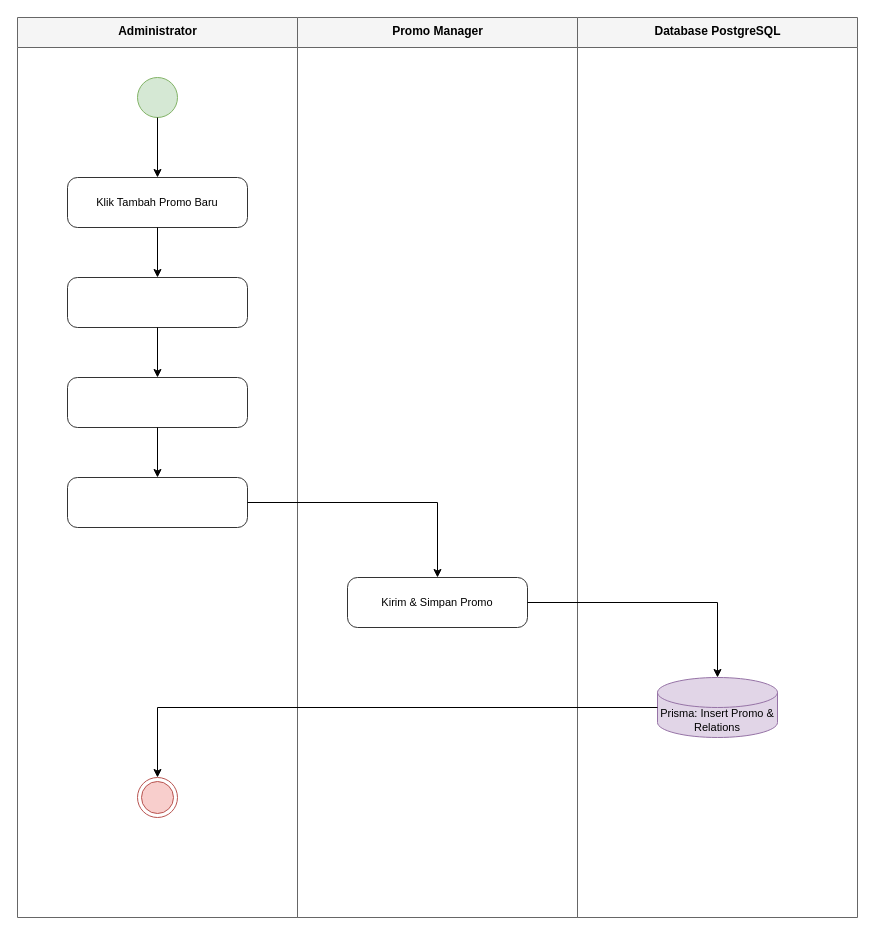
Image size: 875x935. Some labels were removed from this diagram. Here are the shapes that lost their labels. From the top down, the centre of each, then its label:
At point (157, 302): "Input Nama, Tipe Promo & Value".
At point (157, 402): "Pilih Target: Global/Cat/Prod/Var".
At point (157, 502): "Set Masa Berlaku & Min Purchase".
